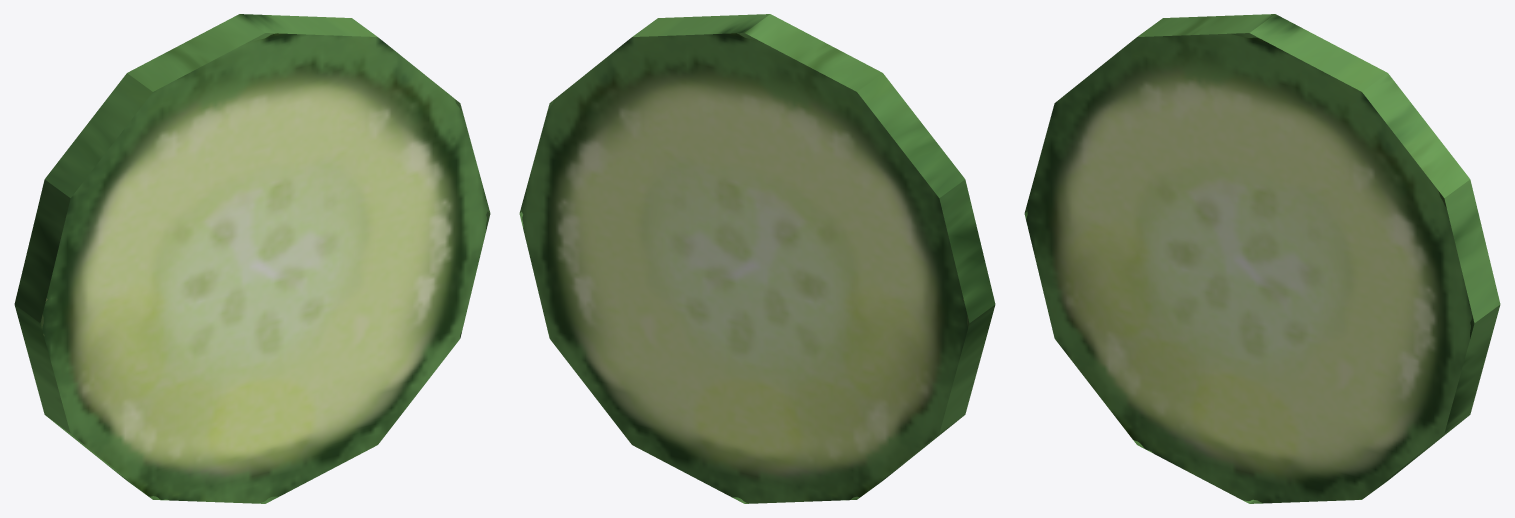
Rendered from Cucumber.fbx.
The picture shows the model from 3 angles, left to right: view 1: azimuth 30°, elevation 25°; view 2: azimuth 150°, elevation 25°; view 3: azimuth 330°, elevation 25°; orthographic projection.
Parts seen in each view (by area): view 1: Cylinder; view 2: Cylinder; view 3: Cylinder.
Part boxes in pixels (<box>): Cylinder: <box>14,14,490,503</box>; Cylinder: <box>519,14,995,503</box>; Cylinder: <box>1024,14,1500,503</box>.
Size of the model in its own units: 200 by 200 by 20.
